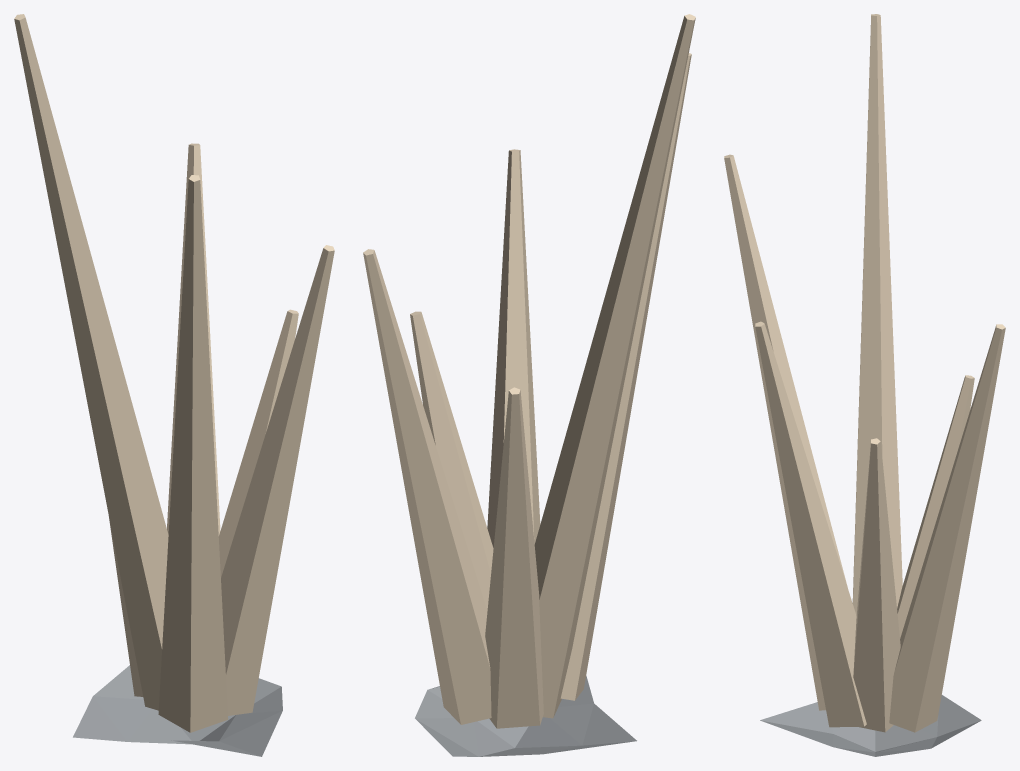
File: crystal_v34.glb
The picture shows the model from 3 angles, left to right: view 1: azimuth 30°, elevation 25°; view 2: azimuth 150°, elevation 25°; view 3: azimuth 270°, elevation 25°; orthographic projection. The views are drawn at different scales.
Parts seen in each view (by area): view 1: lod0; view 2: lod0; view 3: lod0.
Part boxes in pixels (x1,y1,x2,y2): lod0: [14, 14, 334, 756]; lod0: [363, 14, 695, 756]; lod0: [724, 14, 1005, 756].
Size of what is drawn, in the model's own units: 0.7968 by 2.07 by 0.7967.
